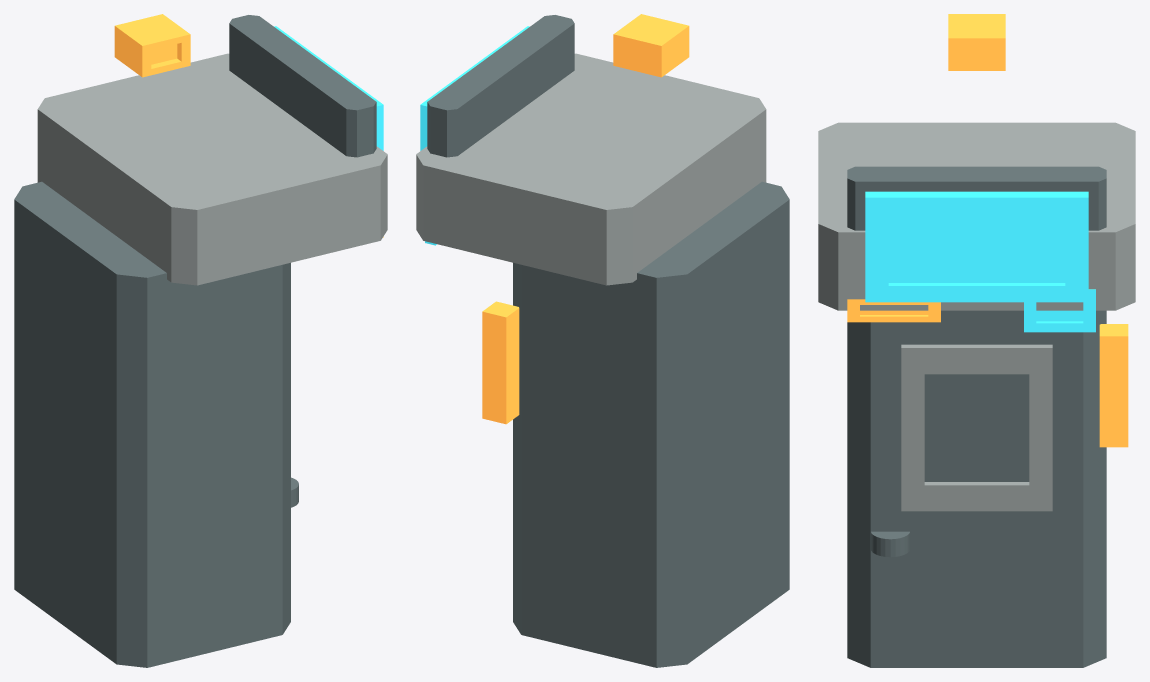
Rendered from refinery-terminal-lod0.glb.
The picture shows the model from 3 angles, left to right: view 1: azimuth 30°, elevation 25°; view 2: azimuth 150°, elevation 25°; view 3: azimuth 270°, elevation 25°; orthographic projection. The views are drawn at different scales.
Visible parts, largest first — view 1: refinery-terminal-pedestal, refinery-terminal-console, refinery-terminal-screen-shroud, objective-beacon-mount, refinery-terminal-screen; view 2: refinery-terminal-pedestal, refinery-terminal-console, refinery-terminal-screen-shroud, refinery-terminal-side-light, objective-beacon-mount, refinery-terminal-screen; view 3: refinery-terminal-pedestal, refinery-terminal-console, refinery-terminal-screen, refinery-terminal-pedestal-service-panel, refinery-terminal-screen-shroud, refinery-terminal-side-light, objective-beacon-mount, refinery-terminal-keypad, refinery-terminal-status-strip, refinery-terminal-service-port.
Part boxes in pixels (bbox=[...]): refinery-terminal-pedestal: bbox=[14, 181, 290, 667]; refinery-terminal-console: bbox=[37, 53, 387, 285]; refinery-terminal-screen-shroud: bbox=[229, 15, 376, 157]; objective-beacon-mount: bbox=[114, 14, 190, 77]; refinery-terminal-screen: bbox=[274, 26, 383, 150]; refinery-terminal-pedestal: bbox=[513, 181, 789, 667]; refinery-terminal-console: bbox=[416, 53, 766, 285]; refinery-terminal-screen-shroud: bbox=[427, 15, 574, 157]; refinery-terminal-side-light: bbox=[482, 301, 519, 424]; objective-beacon-mount: bbox=[613, 14, 689, 77]; refinery-terminal-screen: bbox=[420, 26, 529, 150]; refinery-terminal-pedestal: bbox=[847, 310, 1106, 667]; refinery-terminal-console: bbox=[818, 122, 1135, 310]; refinery-terminal-screen: bbox=[865, 191, 1088, 302]; refinery-terminal-pedestal-service-panel: bbox=[901, 344, 1052, 511]; refinery-terminal-screen-shroud: bbox=[847, 166, 1106, 230]; refinery-terminal-side-light: bbox=[1099, 324, 1128, 447]; objective-beacon-mount: bbox=[948, 14, 1005, 70]; refinery-terminal-keypad: bbox=[1024, 289, 1095, 332]; refinery-terminal-status-strip: bbox=[847, 299, 940, 322]; refinery-terminal-service-port: bbox=[871, 531, 909, 557].
Size of the model in its own units: 0.88 by 1.83 by 0.88.
